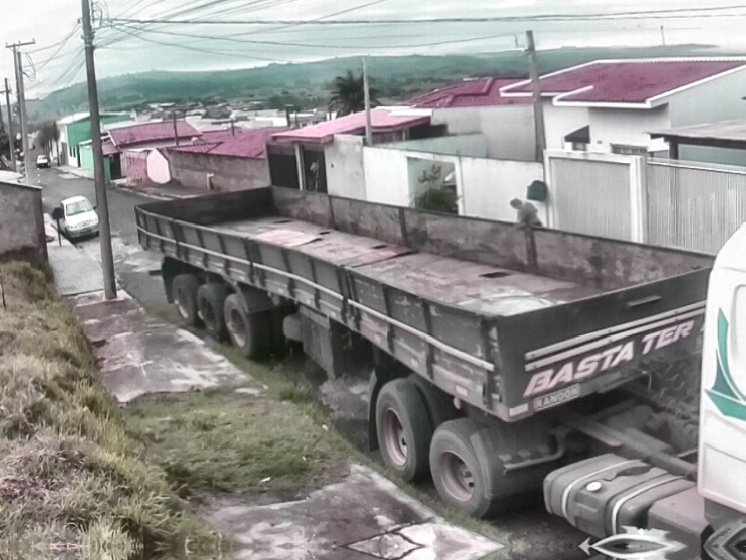person: (510, 198, 542, 230)
